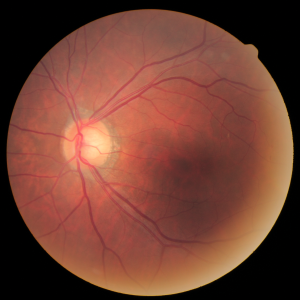glaucoma: (44, 91, 249, 218)
